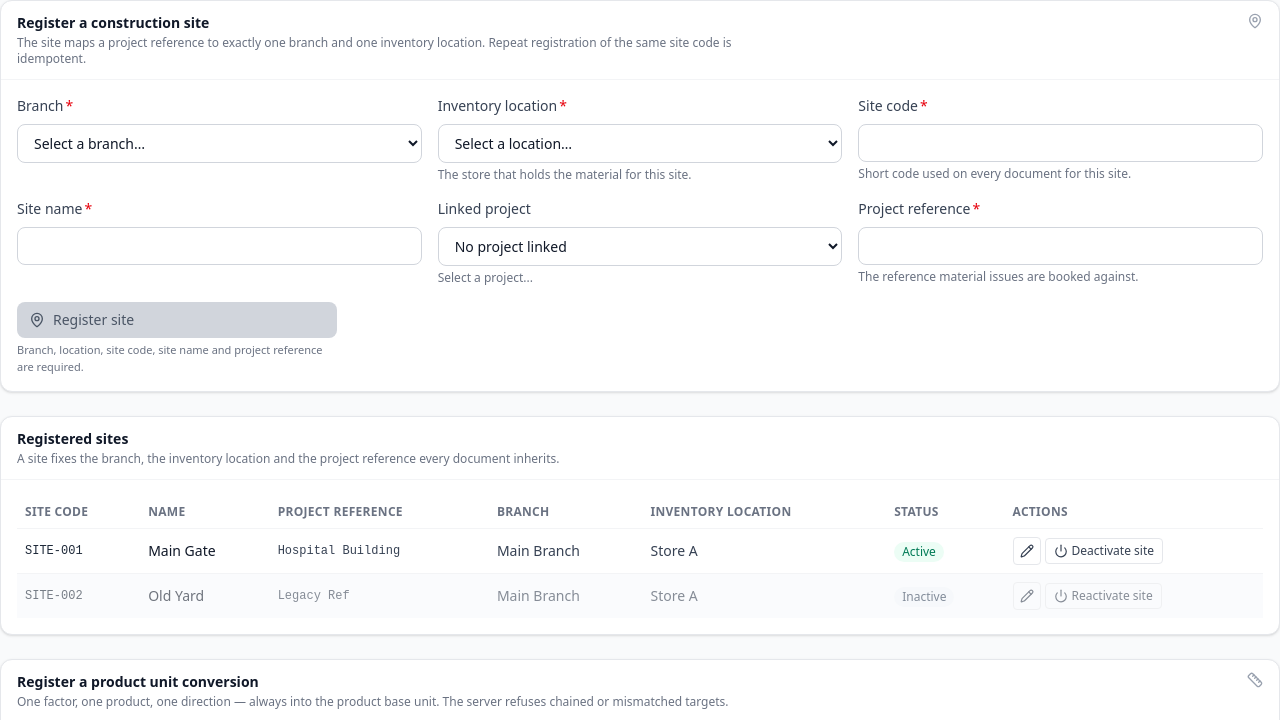
Test: construction setup — site lifecycle (P2-4) › deactivates with a reason through the lifecycle RPC
Step 1. Click the button "Deactivate site" → [1104, 551], box [1045,538,1163,564]
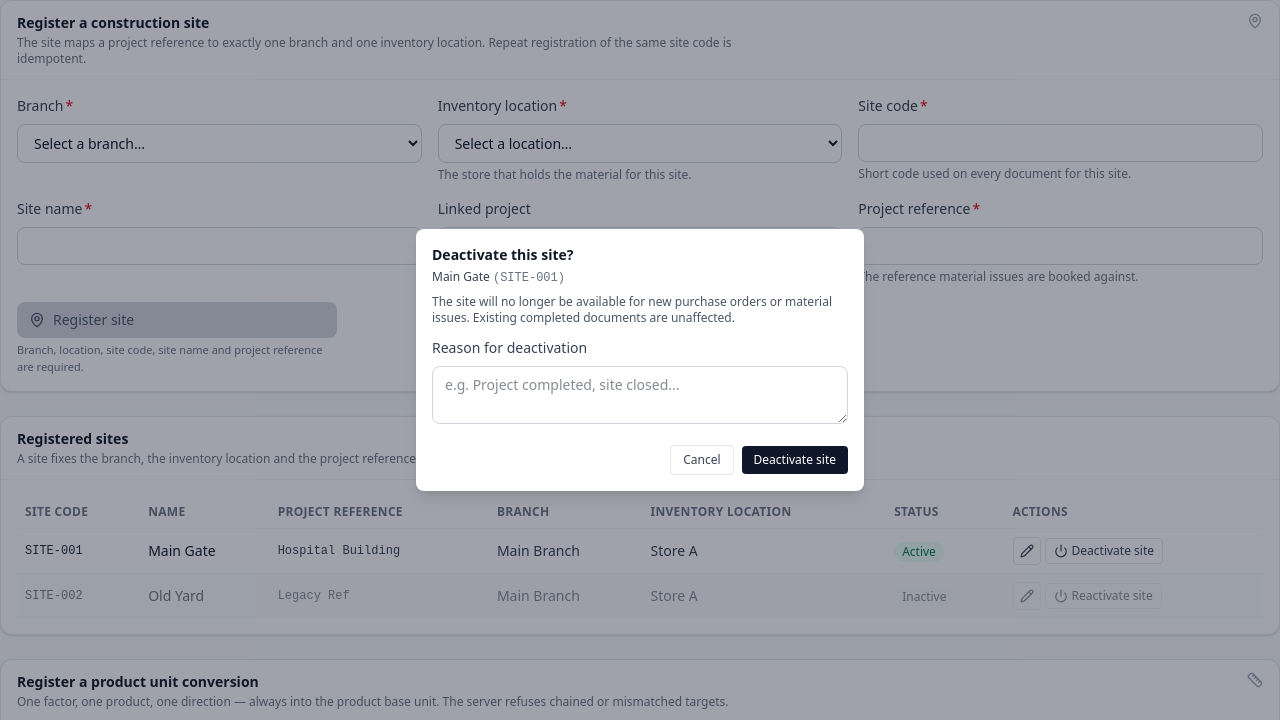
expect the heading "Deactivate this site?" is shown: met, box [432,245,574,264]
expect the text "The site will no longer be available for new purchase orders or material issues. Existing completed documents are unaffe" is shown: met, box [432,293,832,326]
Step 2. Type "Project completed" into the text box labelled "Reason for deactivation" → [640, 395], box [432,366,848,424]
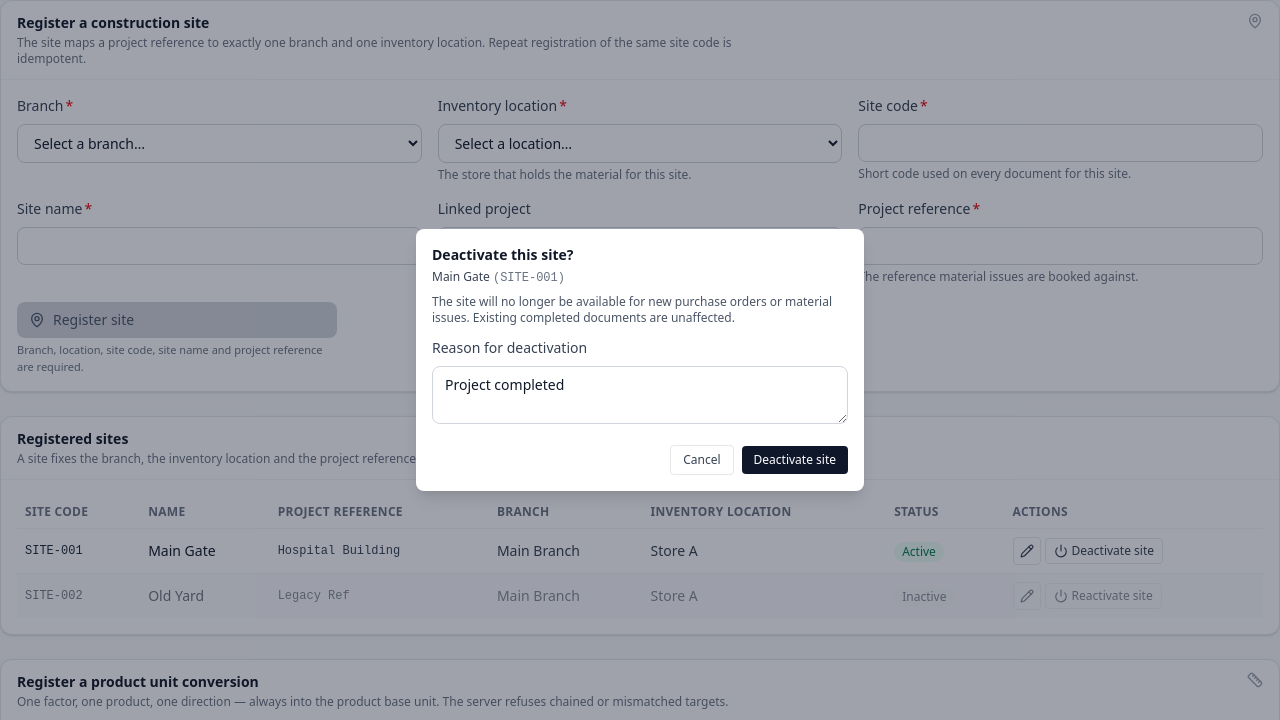
Step 3. Click the button "Deactivate site" → [795, 460], box [742,446,848,474]
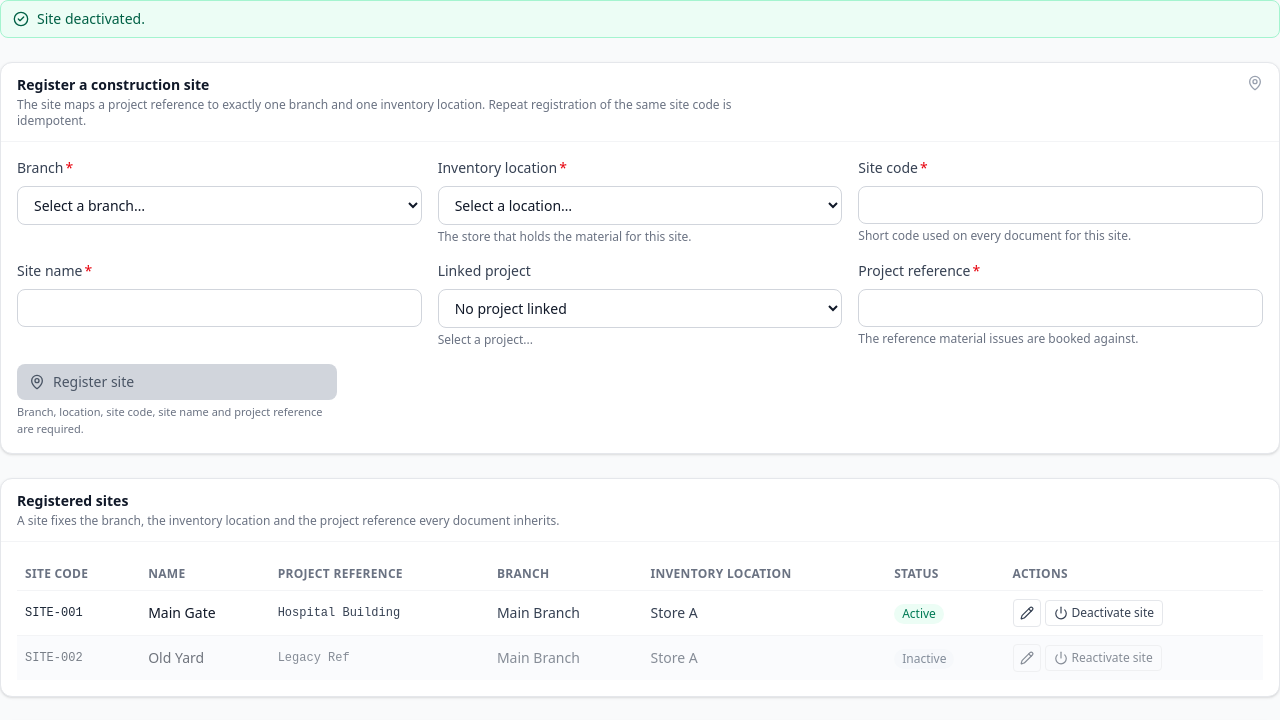
expect the text "Site deactivated." is shown: met, box [37,9,145,29]
